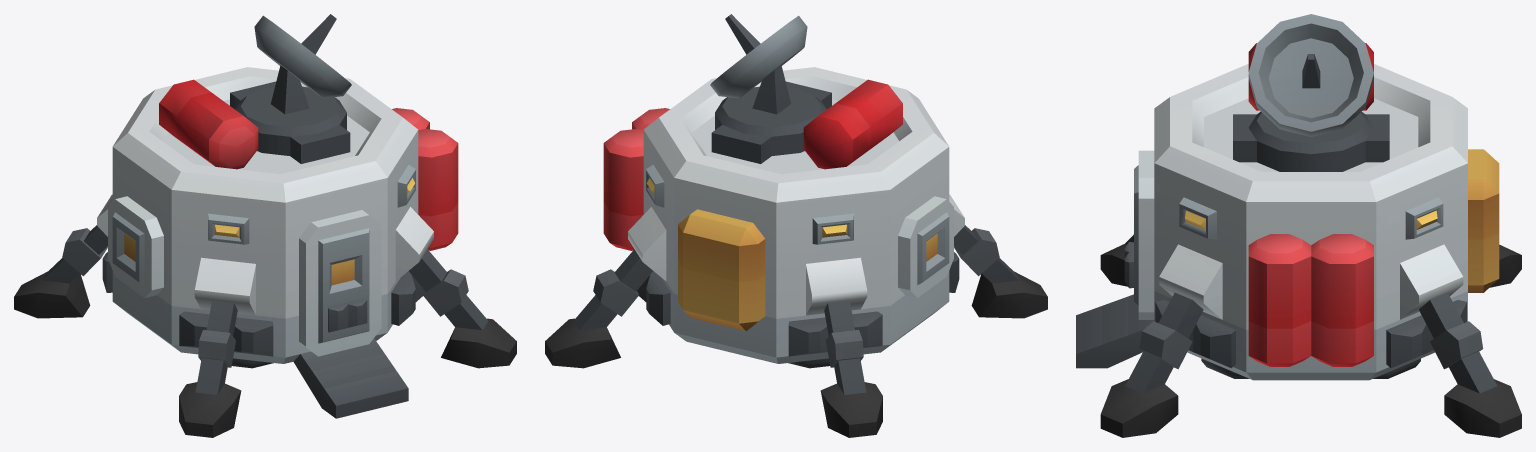
Rendered from lander_A.glb.
The picture shows the model from 3 angles, left to right: view 1: azimuth 30°, elevation 25°; view 2: azimuth 150°, elevation 25°; view 3: azimuth 270°, elevation 25°; orthographic projection. The views are drawn at different scales.
Parts seen in each view (by area): view 1: lander_A_Cylinder.2701; view 2: lander_A_Cylinder.2701; view 3: lander_A_Cylinder.2701.
Part boxes in pixels (left/top/right/bottom): lander_A_Cylinder.2701: left=14, top=14, right=516, bottom=437; lander_A_Cylinder.2701: left=545, top=14, right=1047, bottom=437; lander_A_Cylinder.2701: left=1076, top=14, right=1521, bottom=437.
Bounding box in the file's own units: 1.37 × 1.19 × 1.42.
1 material, 1 textured.
